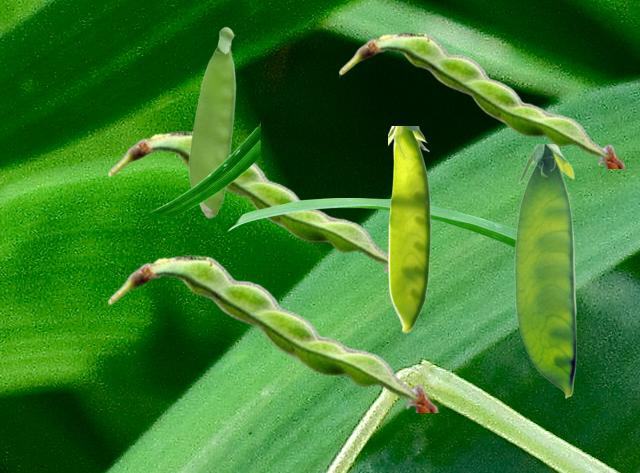pea: (108, 255, 438, 411), (108, 131, 387, 274), (339, 32, 625, 167), (514, 144, 575, 397), (188, 26, 235, 217), (388, 126, 430, 332)
